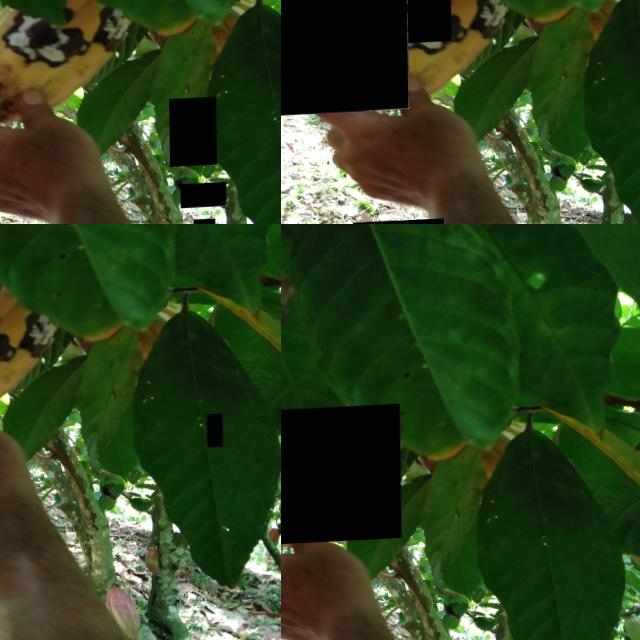Monilia: (281, 407, 400, 549)
Sana: (281, 0, 408, 117), (168, 102, 216, 171), (179, 187, 225, 213), (206, 420, 222, 453)
